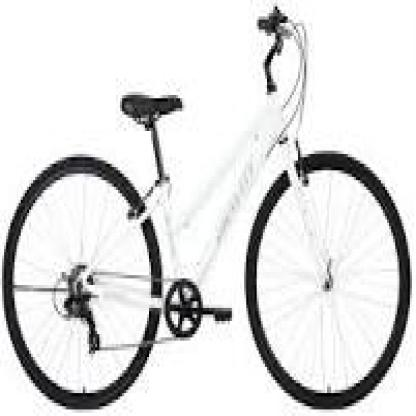Bike: (0, 7, 416, 416)
